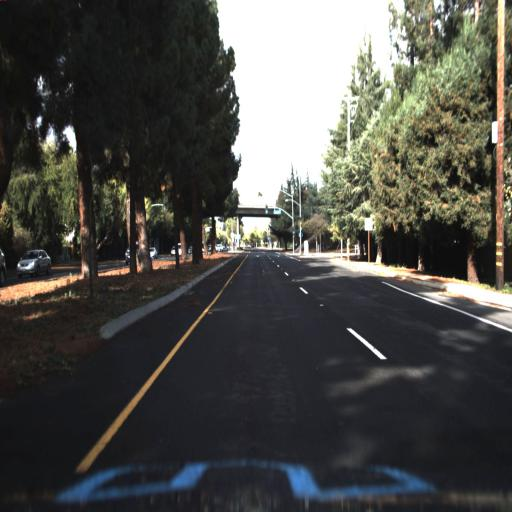car: (17, 247, 52, 280)
